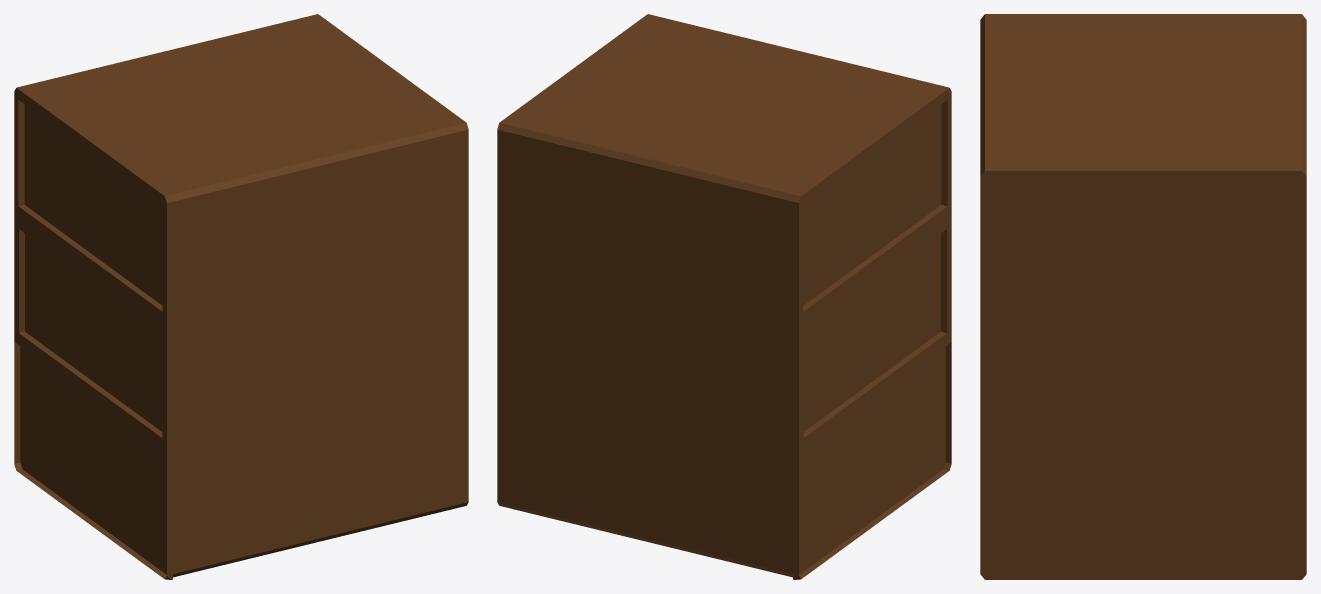
The model's file is NightStand.fbx.
3 views of the same model, side by side, from view 1: azimuth 30°, elevation 25°; view 2: azimuth 150°, elevation 25°; view 3: azimuth 270°, elevation 25° (orthographic). The views are drawn at different scales.
Parts seen in each view (by area): view 1: Cube.098; view 2: Cube.098; view 3: Cube.098.
Part boxes in pixels (x1,y1,x2,y2): Cube.098: (14, 14, 468, 579); Cube.098: (497, 14, 951, 579); Cube.098: (980, 14, 1306, 579).
Size of the model in its own units: 91.32 by 111 by 80.06.
